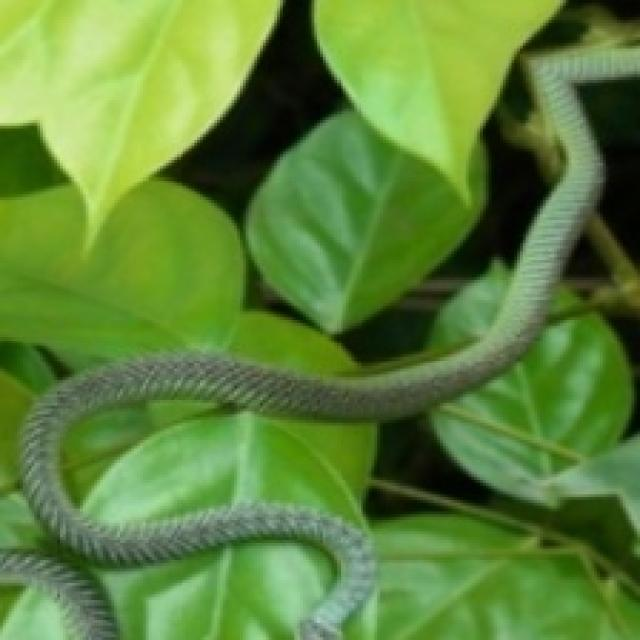paradise tree snake: (0, 306, 637, 637), (0, 177, 400, 414), (514, 49, 637, 291)
